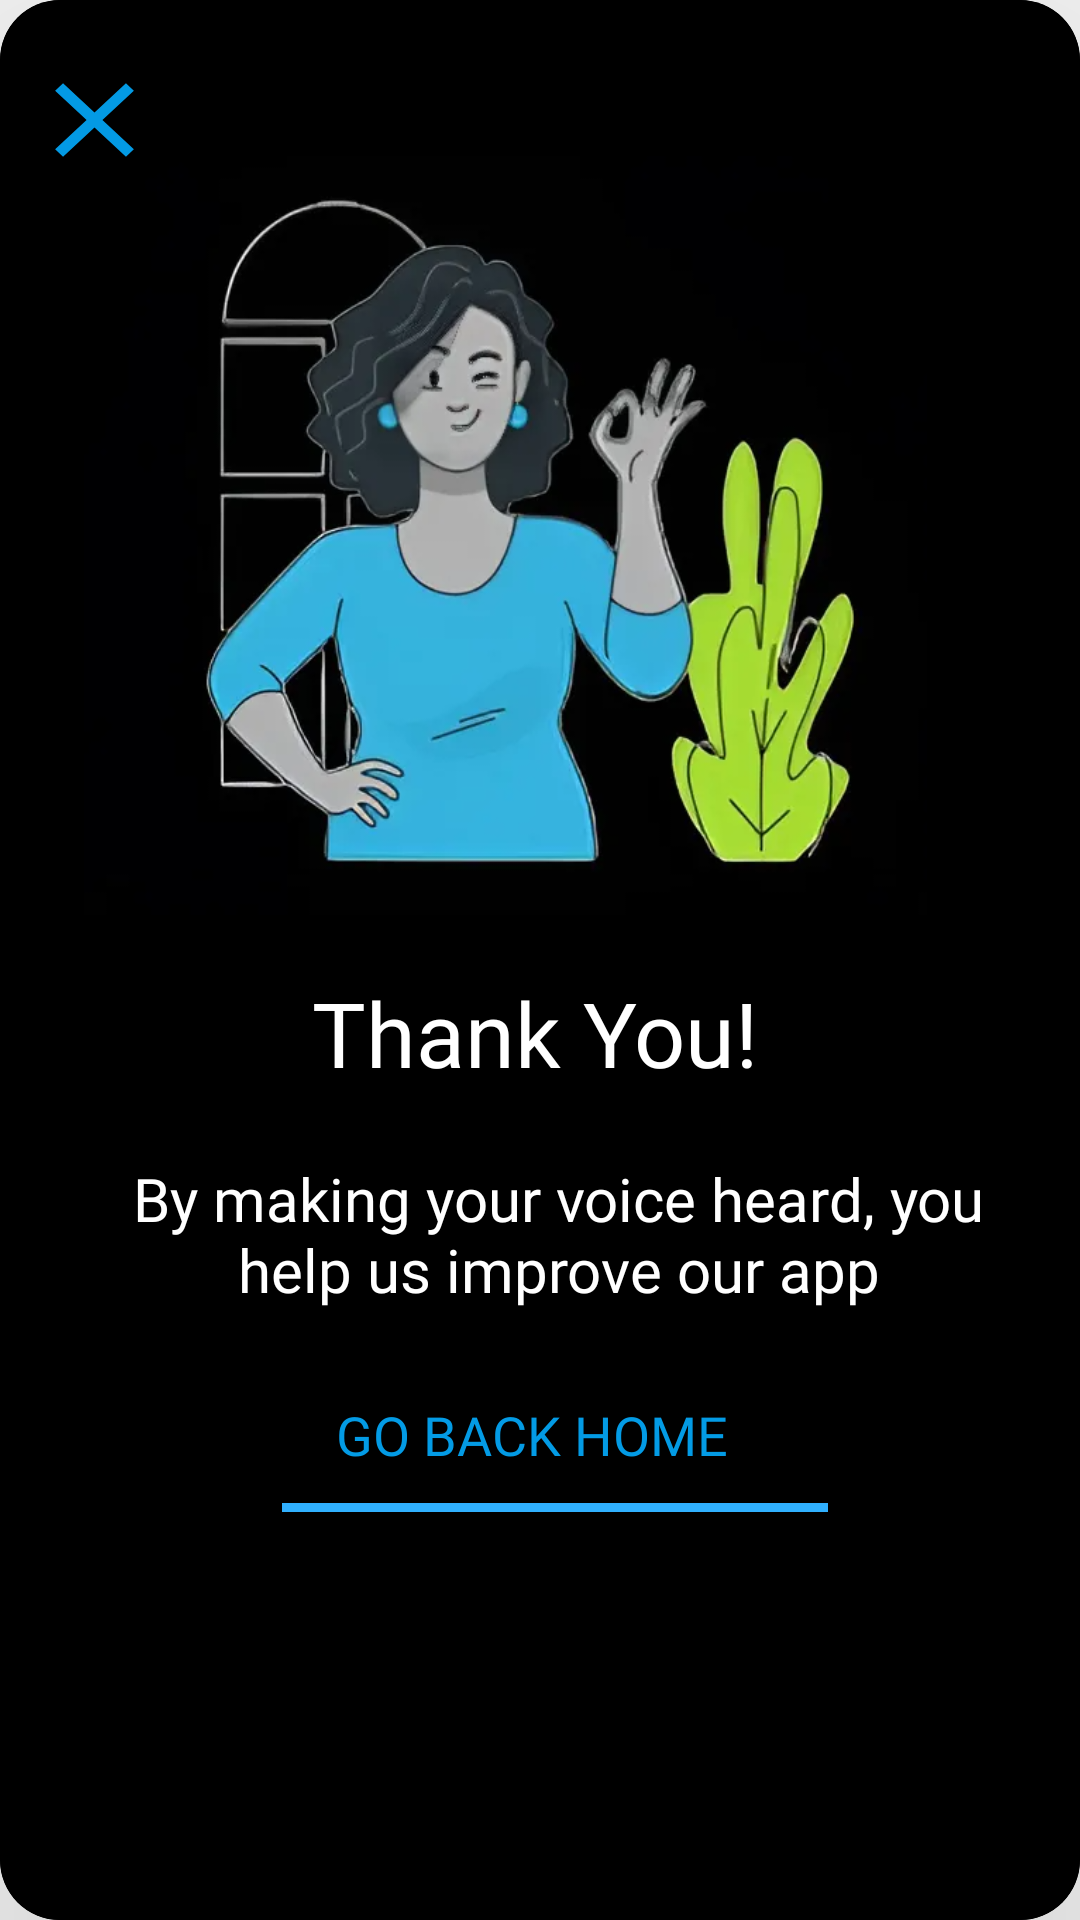

Icon bounding boxes for this 1080px x 1920px phone screenshot, format [x1, y1, x2, y2]:
close: [55, 83, 134, 157]
